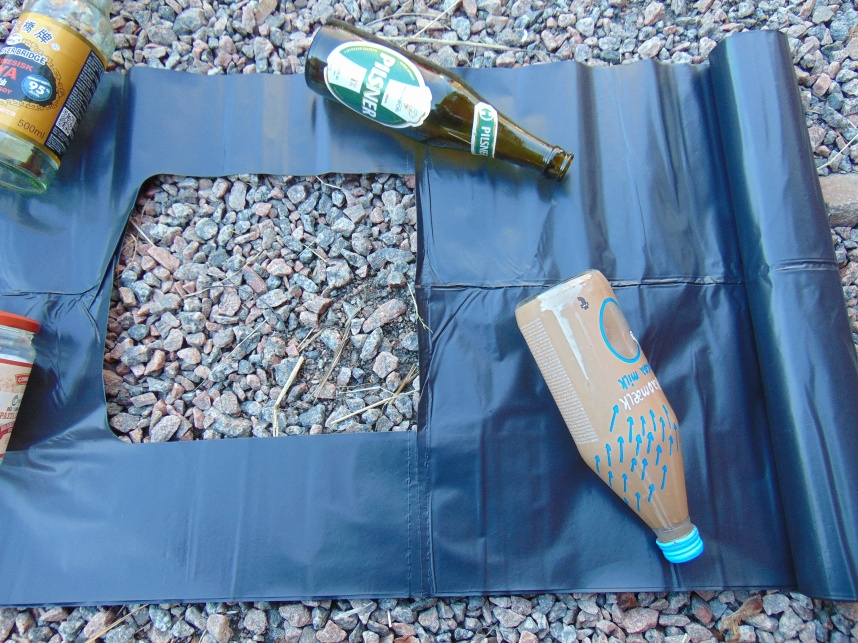glass_bottle: (514, 266, 707, 565), (304, 20, 576, 187), (1, 1, 117, 194), (1, 312, 39, 464)
